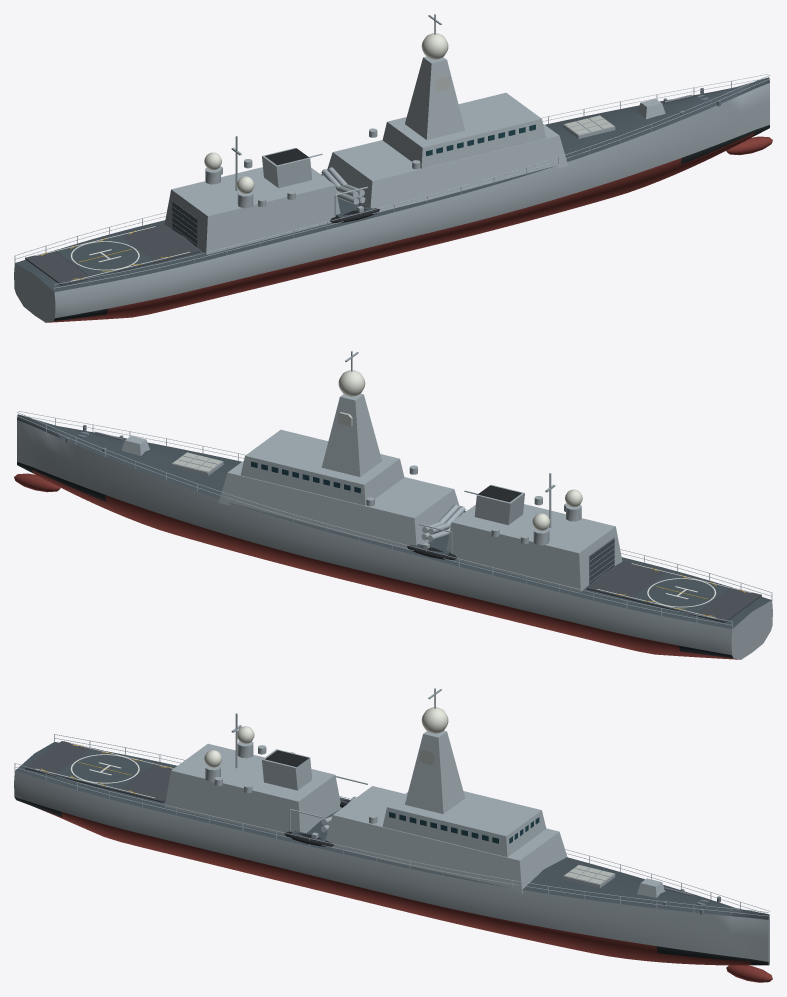
File: rfn_fsg_steregushchiy.glb
The picture shows the model from 3 angles, top to bottom: view 1: azimuth 30°, elevation 25°; view 2: azimuth 150°, elevation 25°; view 3: azimuth 330°, elevation 25°; orthographic projection.
Visible parts, largest first — view 1: naval_paint, deck_non_skid, antifouling, flight_deck, radome, array_face, rubber, boot_topping, marking_white; view 2: naval_paint, deck_non_skid, antifouling, flight_deck, radome, rubber, array_face, boot_topping, marking_white; view 3: naval_paint, deck_non_skid, antifouling, flight_deck, radome, boot_topping, rubber, array_face, marking_white, glazing.
Boxes of the visible parts, x1,y1,x2,y2 form: naval_paint: (14, 14, 769, 322); deck_non_skid: (15, 77, 769, 291); antifouling: (46, 133, 772, 322); flight_deck: (25, 224, 199, 285); radome: (204, 33, 448, 193); array_face: (435, 76, 614, 134); rubber: (265, 148, 379, 222); boot_topping: (54, 125, 769, 321); marking_white: (35, 226, 189, 281); naval_paint: (17, 351, 772, 659); deck_non_skid: (17, 414, 771, 628); antifouling: (14, 470, 740, 659); flight_deck: (587, 561, 761, 622); radome: (338, 370, 582, 530); rubber: (407, 485, 521, 559); array_face: (172, 412, 352, 471); boot_topping: (17, 462, 732, 658); marking_white: (597, 563, 751, 618); naval_paint: (14, 688, 770, 965); deck_non_skid: (15, 742, 769, 919); antifouling: (36, 807, 772, 982); flight_deck: (25, 741, 173, 802); radome: (204, 707, 448, 767); boot_topping: (14, 797, 768, 965); rubber: (265, 750, 349, 846); array_face: (419, 750, 614, 884); marking_white: (35, 743, 173, 798); glazing: (389, 812, 539, 843).
Size of the model in its own units: 10 by 2.83 by 1.26.
